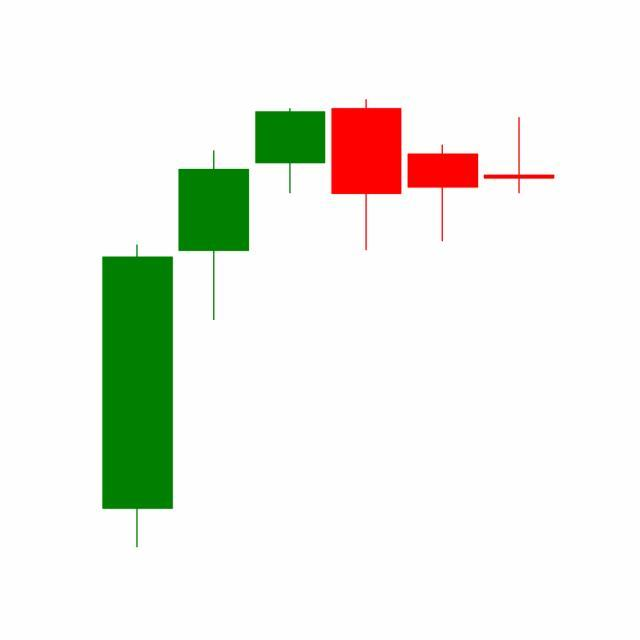Hikkake Pattern: (175, 99, 555, 325)
